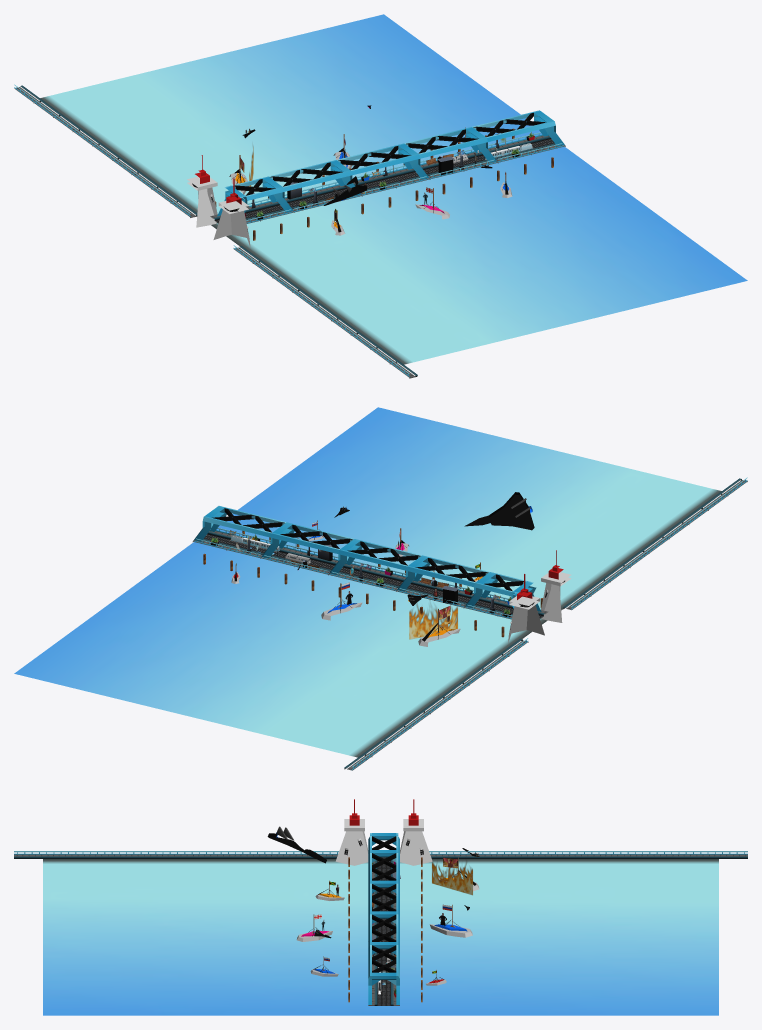
The model's file is subwaysurferstest47.glb.
The picture shows the model from 3 angles, top to bottom: view 1: azimuth 30°, elevation 25°; view 2: azimuth 150°, elevation 25°; view 3: azimuth 270°, elevation 25°; orthographic projection. The views are drawn at different scales.
Parts seen in each view (by area): view 1: Water, Overpass.002, Overpass, Overpass.001, Overpass.003, lighttower, Overpass.004, lighttower.001; view 2: Water, Overpass.003, Overpass.002, Overpass, Overpass.001, Plane1.001, lighttower.001, Overpass.004, lighttower, Fire; view 3: Water, lighttower.001, lighttower, Overpass, Fire, Overpass.002, Overpass.001, Overpass.003, Overpass.004, Plane1.001, boat1.006.
Part boxes in pixels (bbox=[...]): Water: bbox=[40, 14, 747, 364]; Overpass.002: bbox=[337, 143, 429, 179]; Overpass: bbox=[472, 110, 565, 146]; Overpass.001: bbox=[404, 127, 497, 162]; Overpass.003: bbox=[269, 160, 361, 195]; lighttower: bbox=[213, 178, 250, 247]; Overpass.004: bbox=[217, 176, 293, 216]; lighttower.001: bbox=[187, 155, 217, 227]; Water: bbox=[14, 407, 721, 757]; Overpass.003: bbox=[396, 555, 489, 591]; Overpass.002: bbox=[328, 539, 421, 574]; Overpass: bbox=[193, 506, 286, 541]; Overpass.001: bbox=[261, 522, 353, 558]; Plane1.001: bbox=[464, 492, 534, 530]; lighttower.001: bbox=[508, 574, 544, 642]; Overpass.004: bbox=[464, 572, 541, 611]; lighttower: bbox=[541, 550, 571, 622]; Fire: bbox=[409, 603, 457, 639]; Water: bbox=[43, 859, 718, 1015]; lighttower.001: bbox=[400, 799, 432, 865]; lighttower: bbox=[335, 799, 368, 865]; Overpass: bbox=[368, 945, 399, 1004]; Fire: bbox=[432, 861, 472, 895]; Overpass.002: bbox=[368, 883, 399, 923]; Overpass.001: bbox=[368, 914, 399, 954]; Overpass.003: bbox=[368, 853, 399, 893]; Overpass.004: bbox=[368, 833, 399, 862]; Plane1.001: bbox=[267, 826, 326, 863]; boat1.006: bbox=[429, 904, 472, 937].
Size of the model in its own units: 424 by 87.32 by 808.
Materials: 6 (6 with a texture image).
